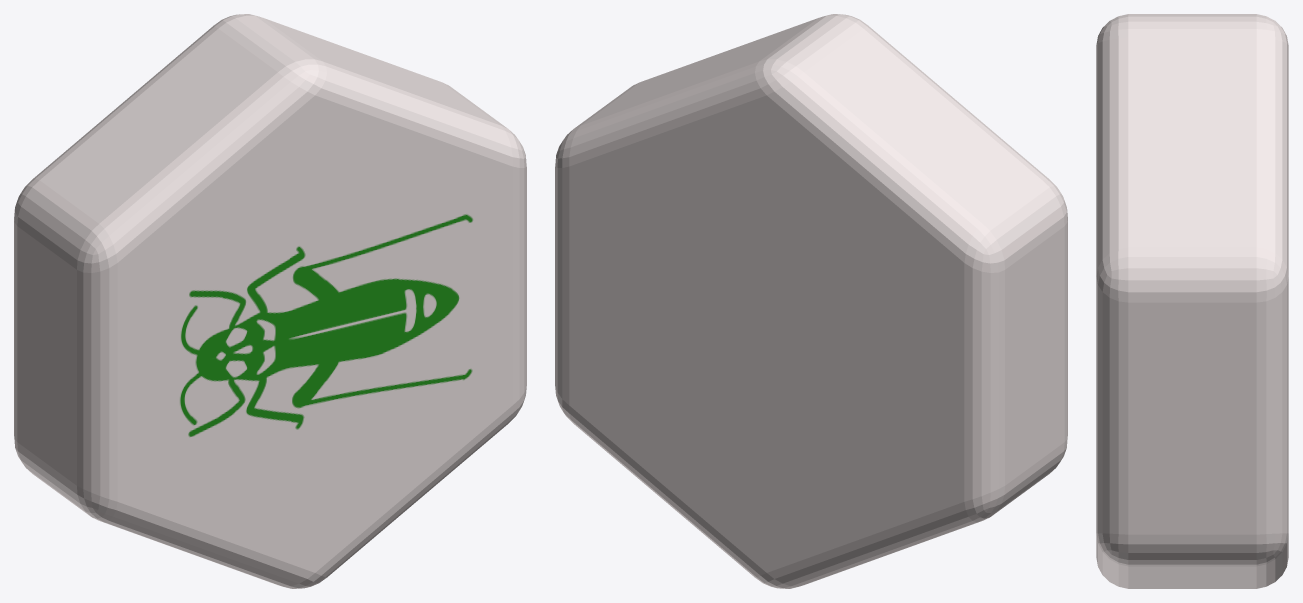
3 views of the same model, side by side, from view 1: azimuth 30°, elevation 25°; view 2: azimuth 150°, elevation 25°; view 3: azimuth 270°, elevation 25° (orthographic). The views are drawn at different scales.
Visible parts, largest first — view 1: wG; view 2: wG; view 3: wG.
Boxes of the visible parts, x1,y1,x2,y2 form: wG: (14,14,526,588); wG: (555,14,1067,588); wG: (1096,14,1288,588).
Bounding box in the file's own units: 0.0866 × 0.0973 × 0.03.
Materials: 1 (1 with a texture image).
